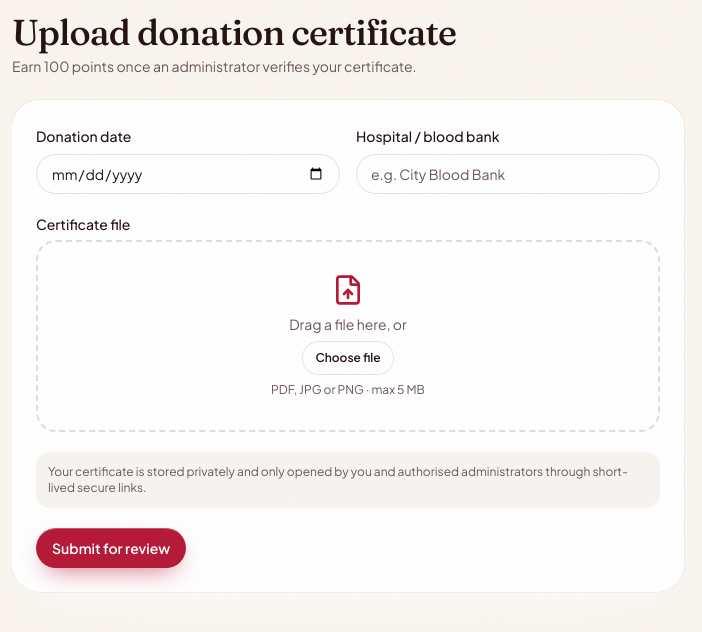
Test: certificate upload workflow (donor) › refuses to submit without a file
Type "2025-01-10" into the date field labelled "Donation date". click: (188, 174)
box: [36,154,340,194]
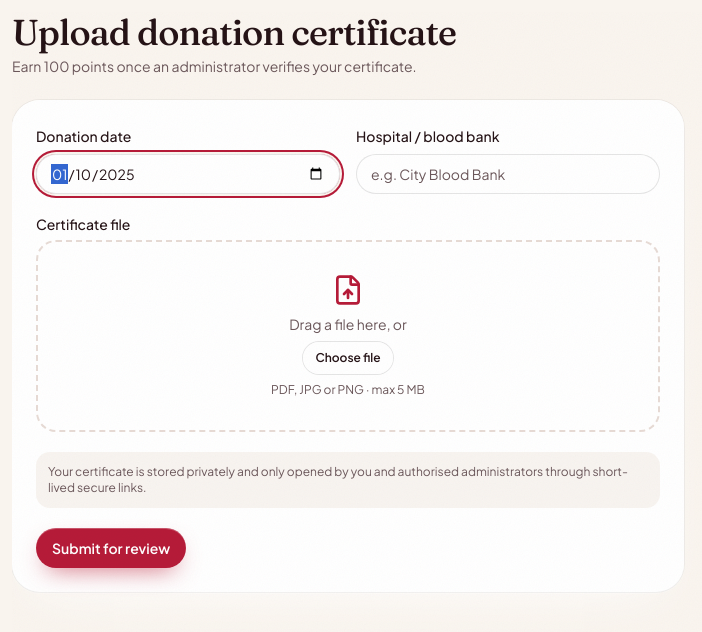
Type "City Blood Bank" into the field labelled "Hospital / blood bank". click: (508, 174)
box: [356,154,660,194]
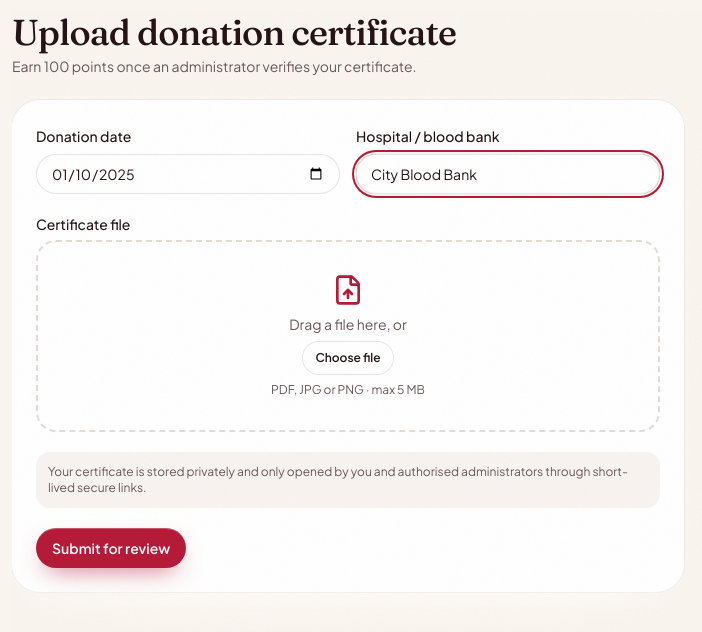
Click the button "Submit for review". click: click(111, 548)
box: [36,528,186,568]
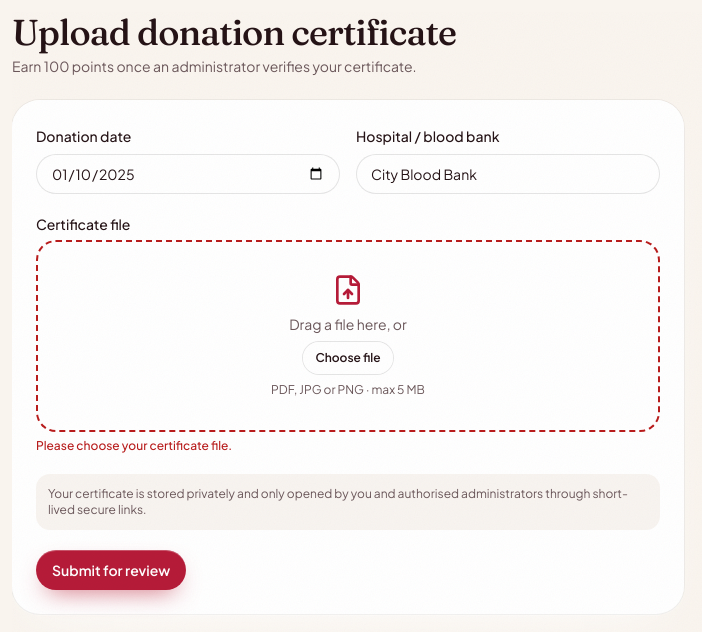
Check: the text "Please choose your certificate file." is shown, box [36,438,232,453]
